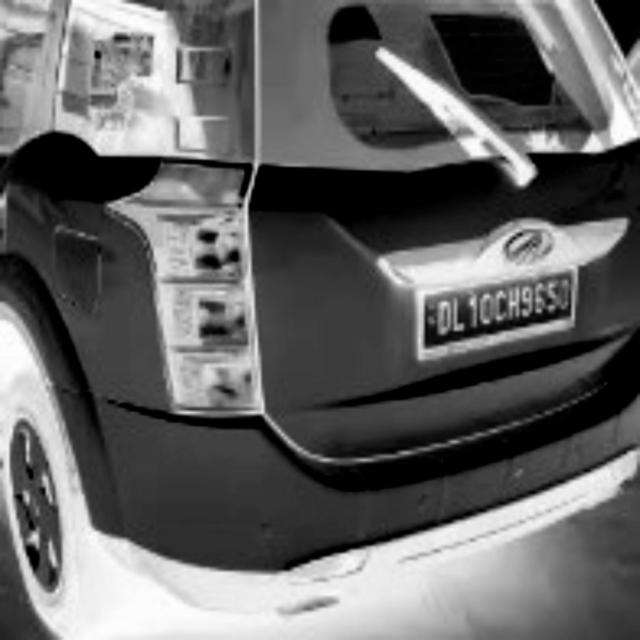0: (479, 290, 494, 328), (559, 276, 572, 314)
1: (470, 294, 480, 331)
5: (547, 276, 560, 315)
6: (535, 283, 548, 318)
9: (521, 282, 533, 321)
C: (494, 288, 506, 327)
D: (438, 297, 451, 337)
H: (508, 284, 522, 322)
IND: (425, 300, 436, 331)
Indian_registered: (425, 274, 571, 346)
L: (453, 293, 468, 335)
